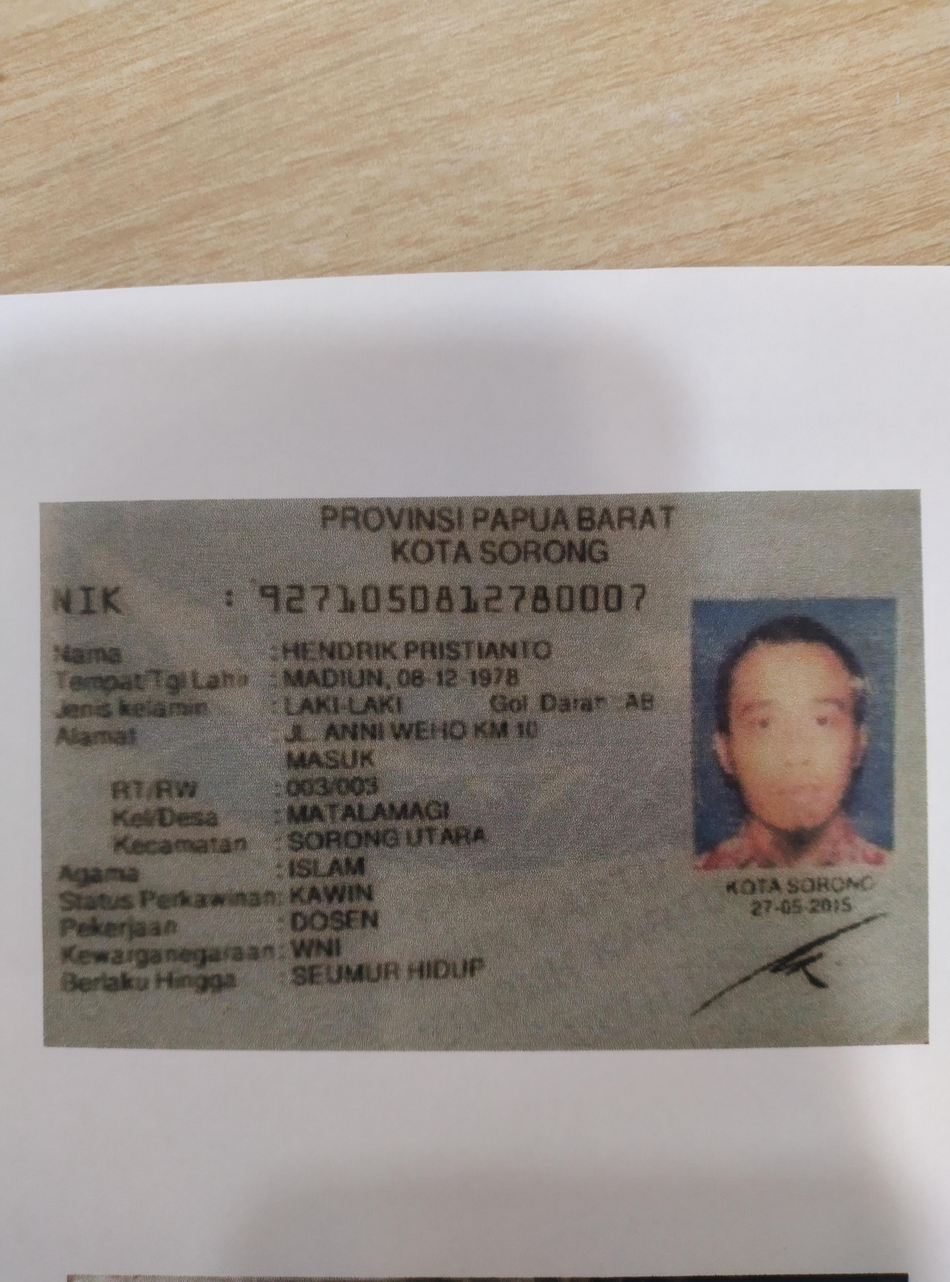ktp: (42, 491, 928, 1042)
